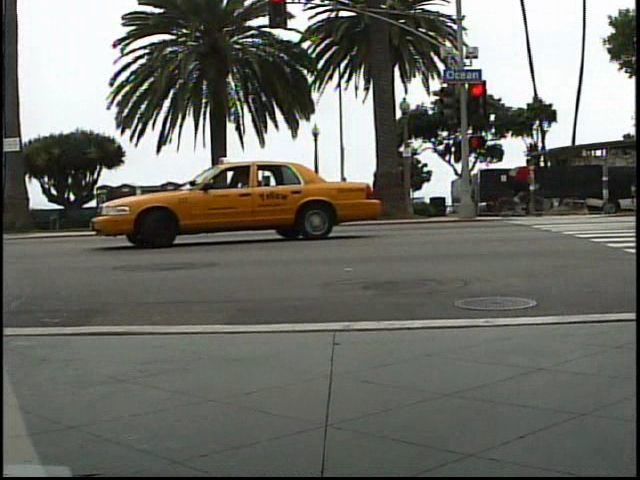person: (506, 155, 532, 207)
